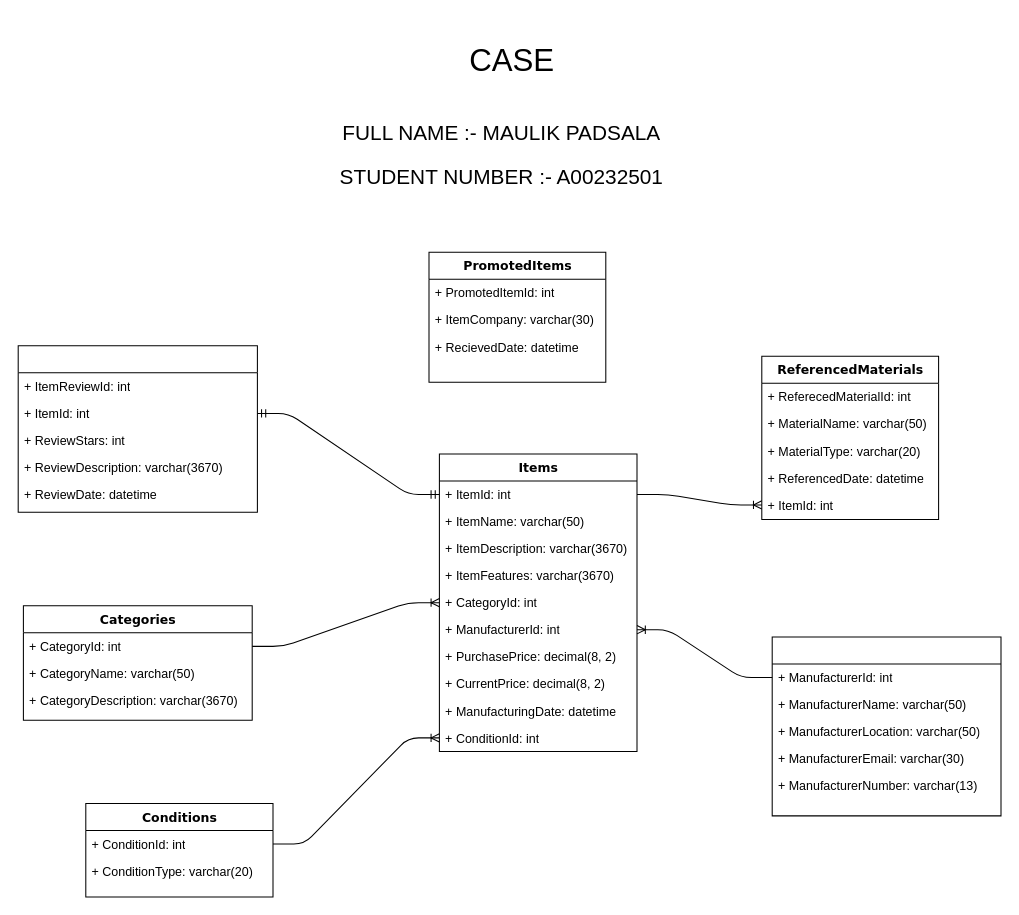
This 1019x915 diagram has some shape labels left out. The box of each missing label's shape, as (x1, y1, x2, y2) in pixels:
ItemReviews: (17, 345, 257, 512)
Manufacturers: (771, 636, 1001, 816)
